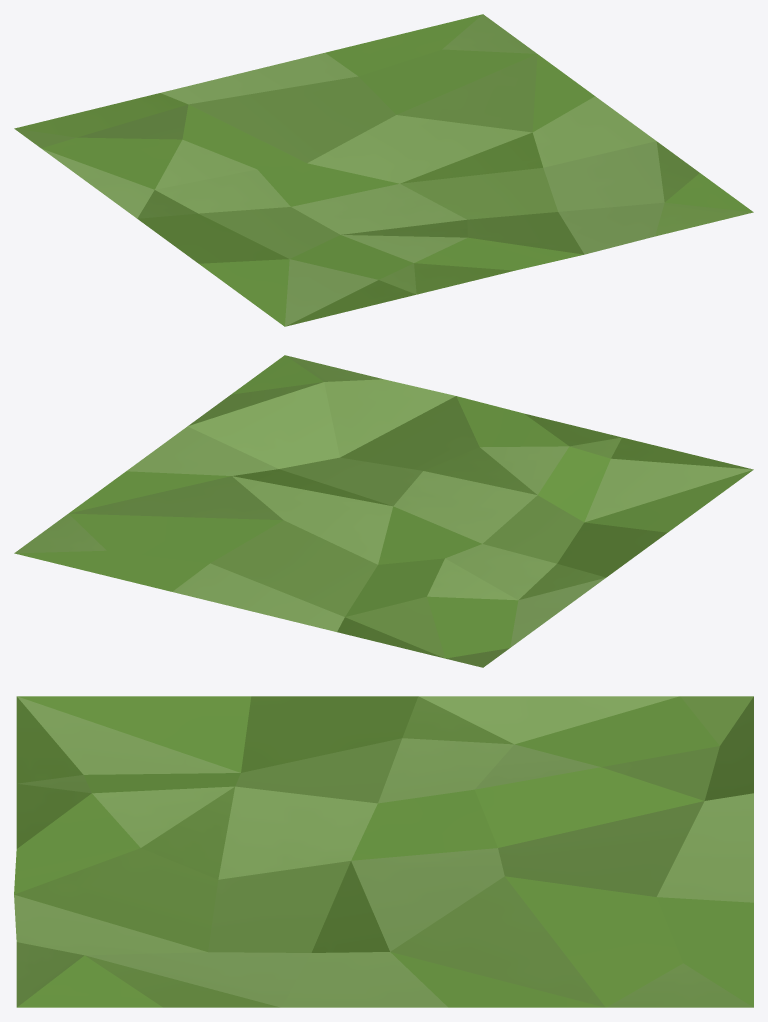
The model's file is Tiles_04.fbx.
3 views of the same model, one above another, from view 1: azimuth 30°, elevation 25°; view 2: azimuth 150°, elevation 25°; view 3: azimuth 270°, elevation 25° (orthographic). The views are drawn at different scales.
Parts seen in each view (by area): view 1: Tiles_04; view 2: Tiles_04; view 3: Tiles_04.
Boxes of the visible parts, bbox=[...] form: Tiles_04: bbox=[14, 14, 753, 326]; Tiles_04: bbox=[14, 355, 753, 667]; Tiles_04: bbox=[14, 696, 753, 1007].
Size of the model in its own units: 722 by 44.14 by 725.
